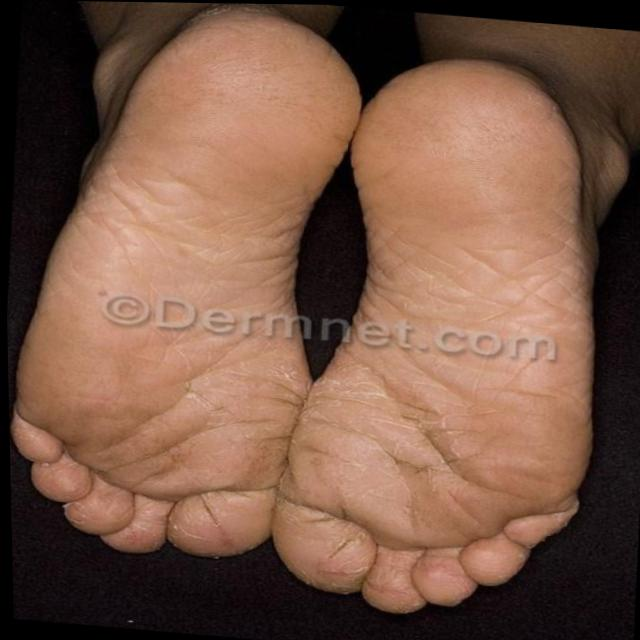liquenificacion 1: (285, 208, 606, 543), (35, 117, 303, 493)
